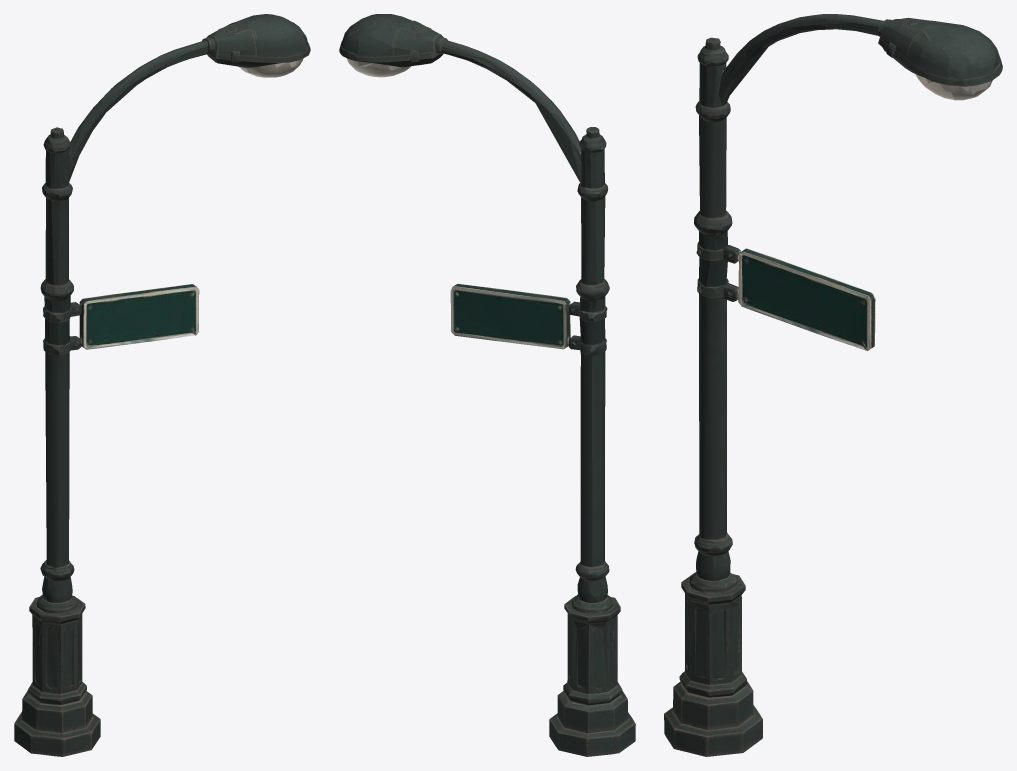
The model's file is street_lamp.glb.
3 renders of one model, left to right at view 1: azimuth 30°, elevation 25°; view 2: azimuth 150°, elevation 25°; view 3: azimuth 330°, elevation 25°, orthographic. The views are drawn at different scales.
Bounding box in the file's own units: 0.839 × 1.9 × 0.2098.
1 material, 1 textured.
